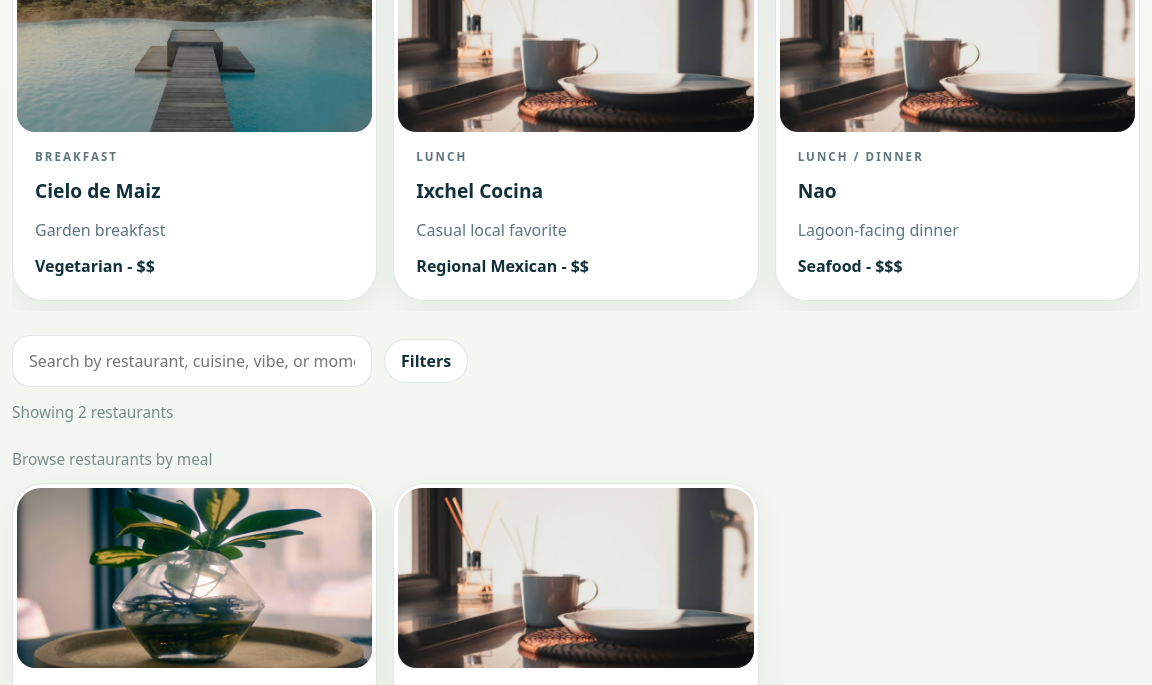
it: RestaurantsPage › shows a filtered empty state when no restaurants match the active filters
Click the button "Filters". click: [426, 361]
box: left=384, top=339, right=468, bottom=383
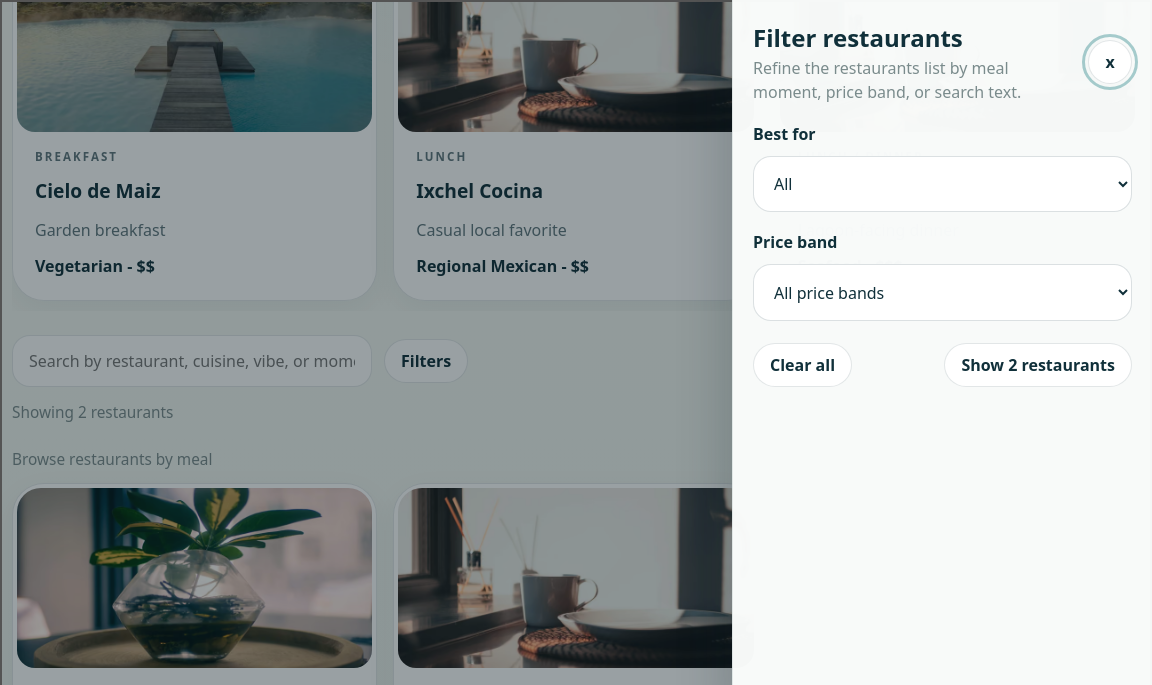
Select "Lunch" in the dropdown labelled "Best for". click: [942, 184]
box: left=753, top=156, right=1132, bottom=212
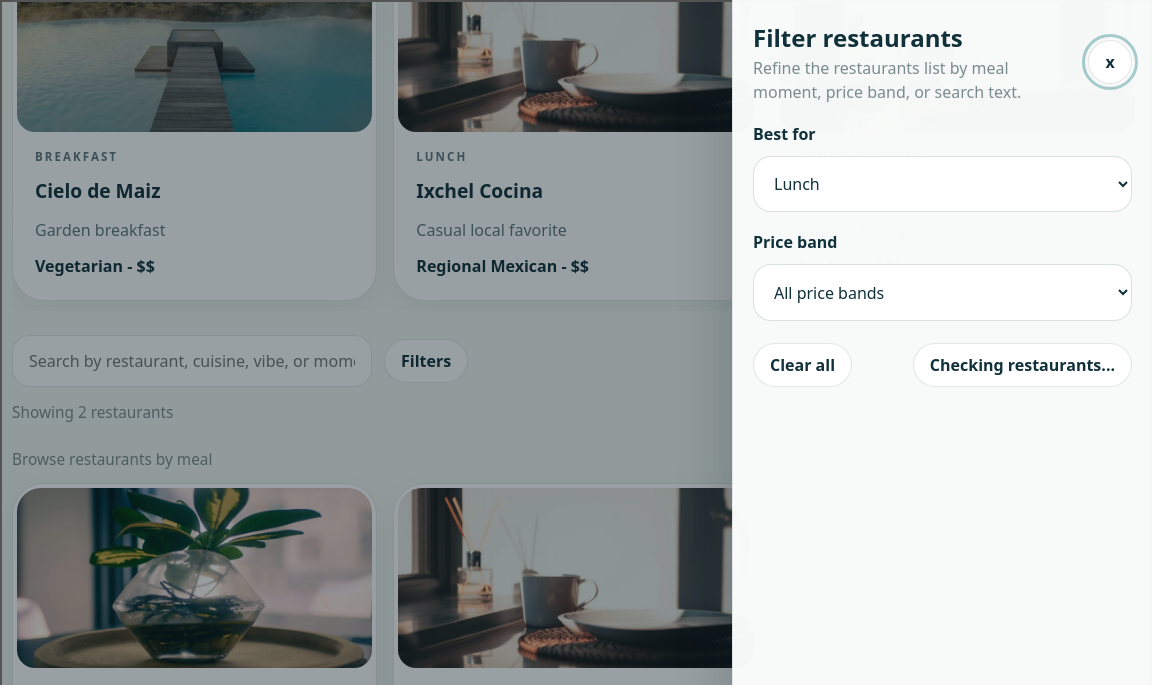
Select "$$$" in the dropdown labelled "Price band". click: [942, 293]
box: left=753, top=264, right=1132, bottom=321
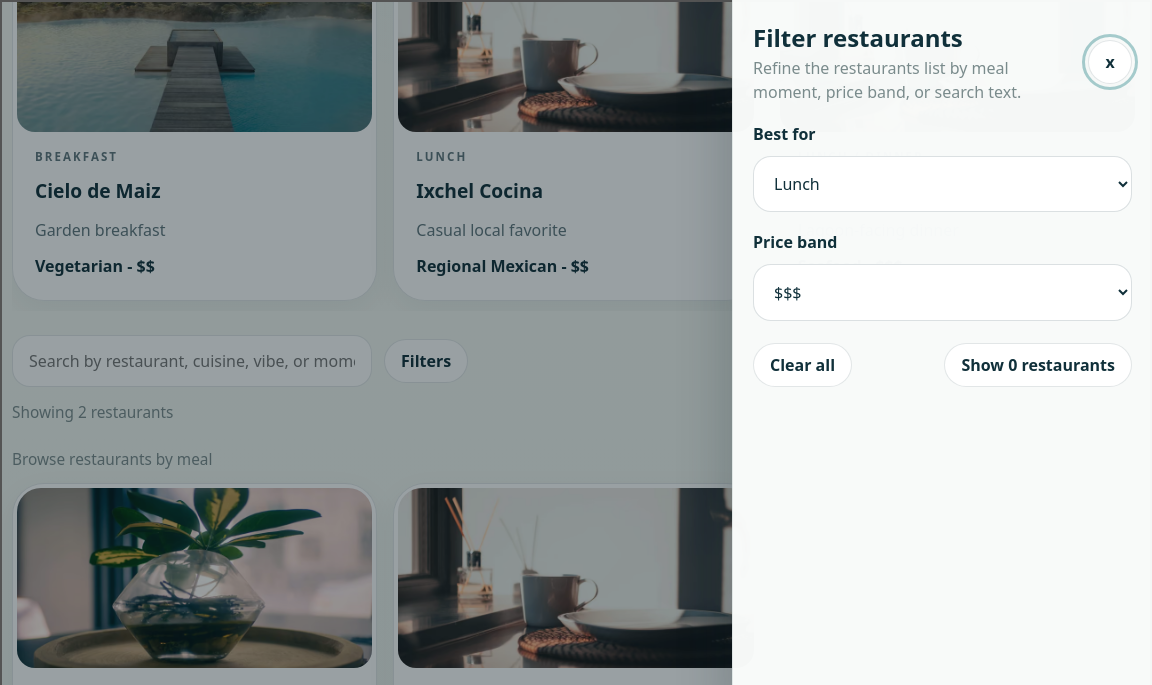
Click the button "Show 0 restaurants". click: [1038, 365]
box: left=944, top=343, right=1132, bottom=387
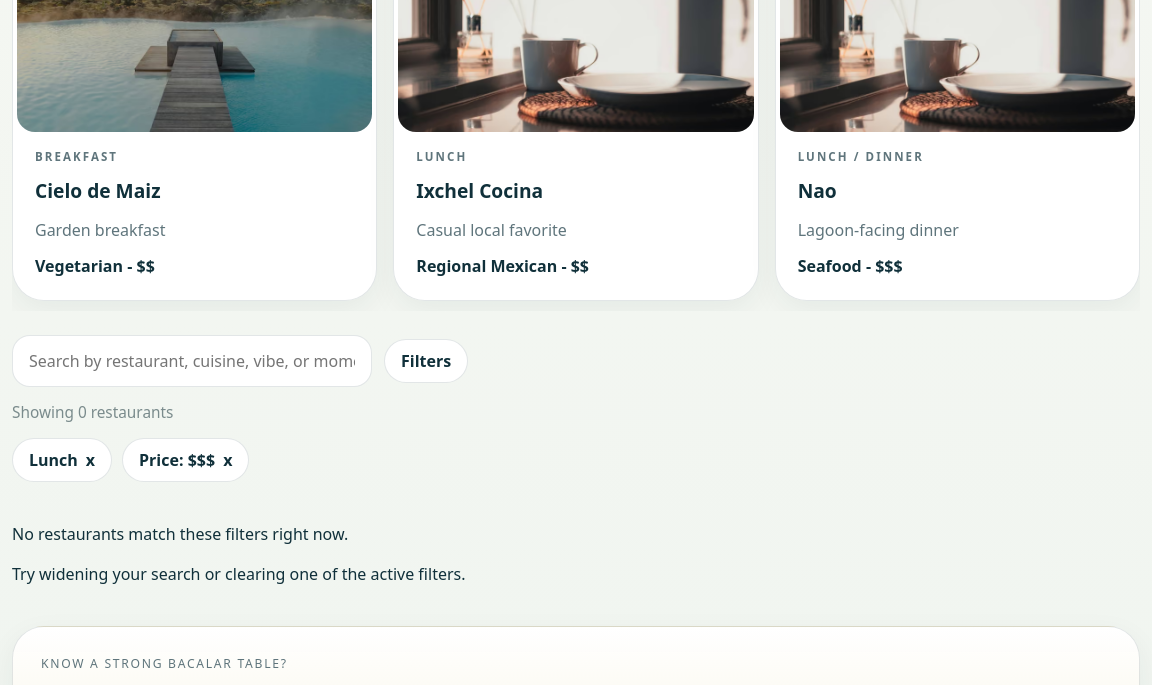
Check: the text "No restaurants match these filters right now." is shown, box left=12, top=523, right=348, bottom=545
Check: the text "Try widening your search or clearing one of the active filters." is shown, box left=12, top=563, right=466, bottom=585
